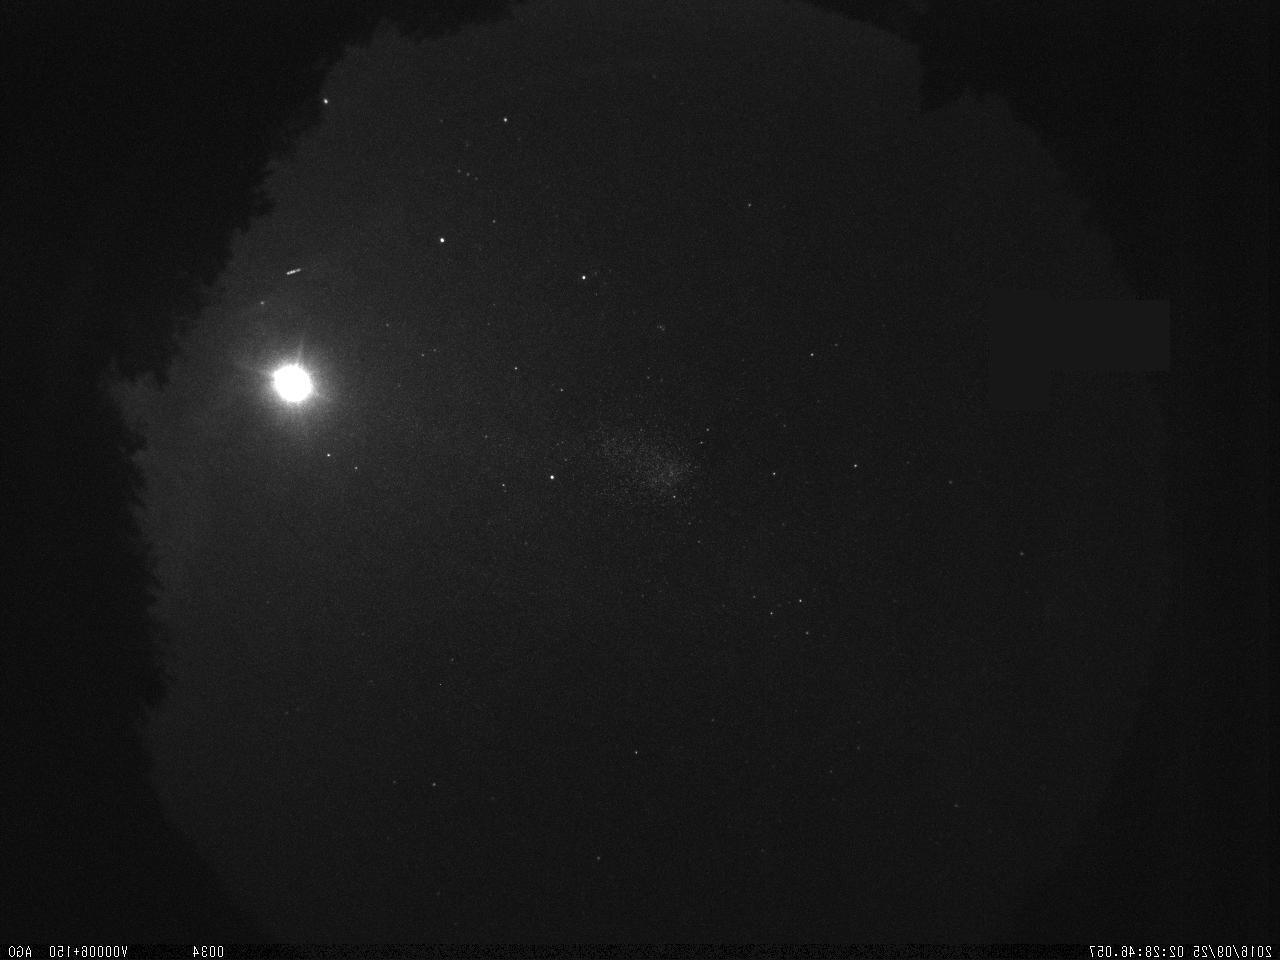meteor: (281, 261, 311, 281)
